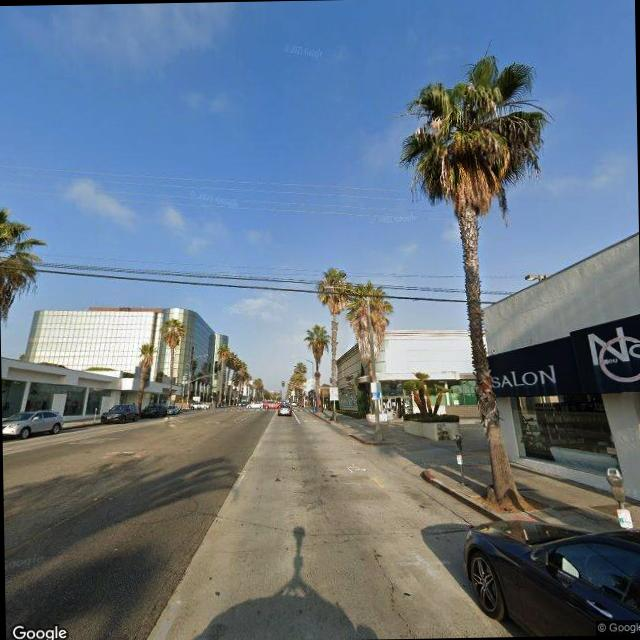pothole: (370, 541, 442, 638)
